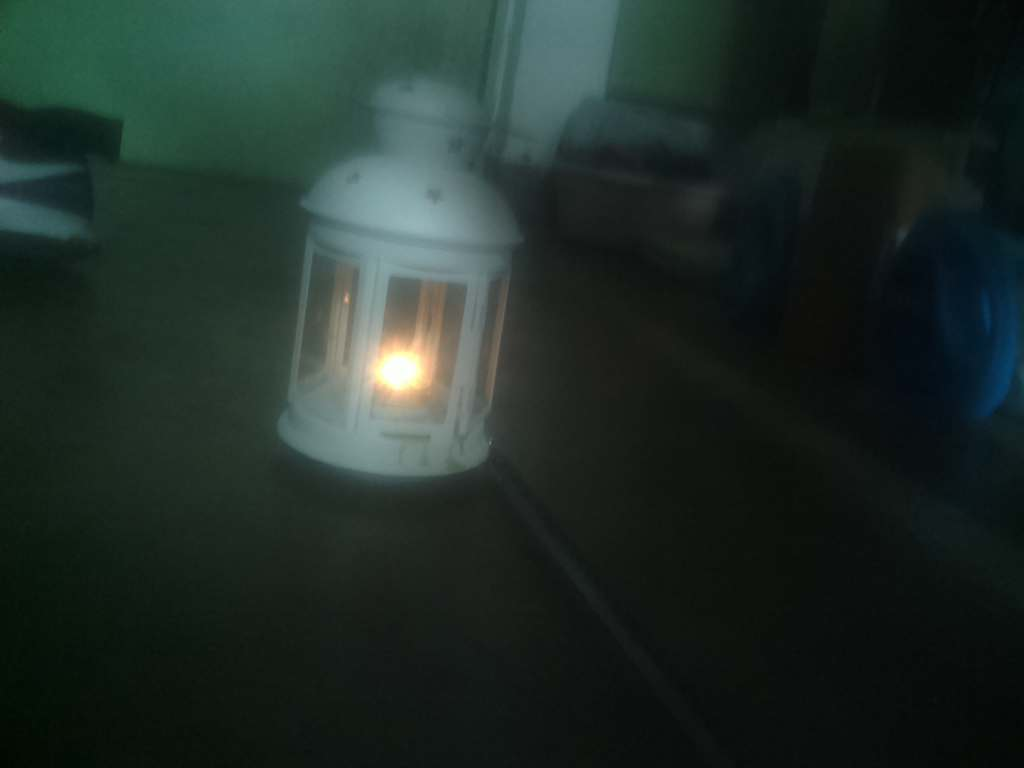fire: (347, 324, 470, 438)
